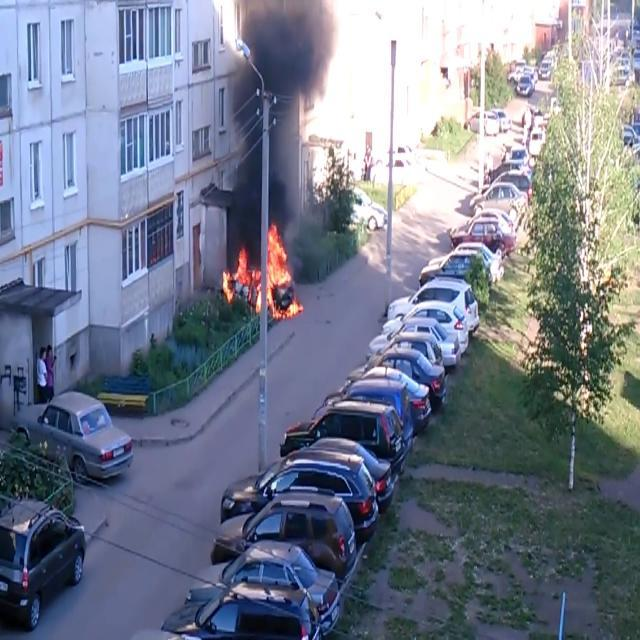Fire: (260, 220, 296, 316), (220, 241, 256, 310)
Smoke: (214, 0, 346, 274)
